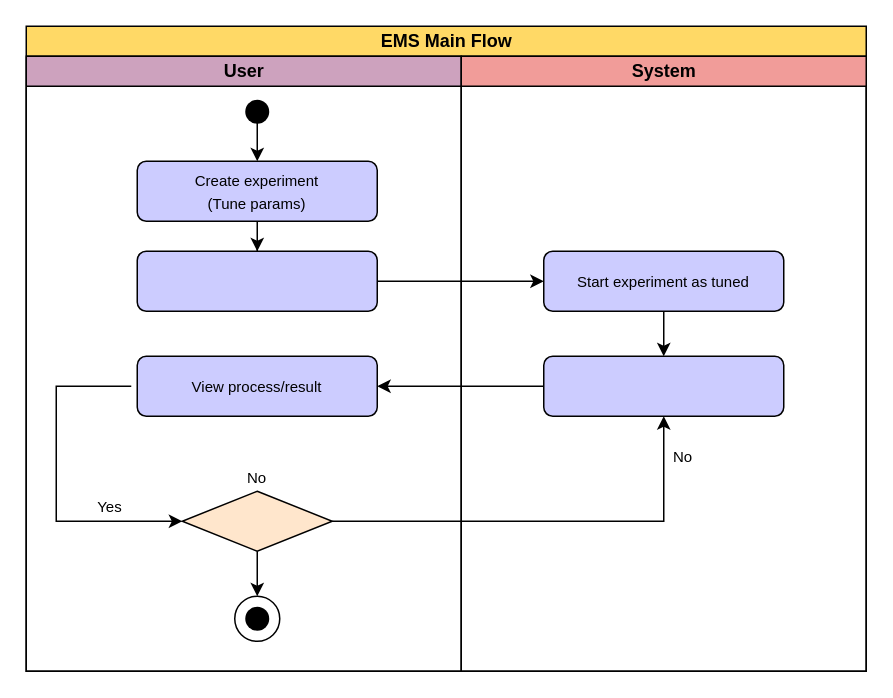
This 893x698 diagram has some shape labels left out. Here are the shapes that lost their labels. From the top down, the centre of each, then its label:
the point at 256,280: Start experiment on click
the point at 663,385: Send process/result
the point at 256,520: Done?
